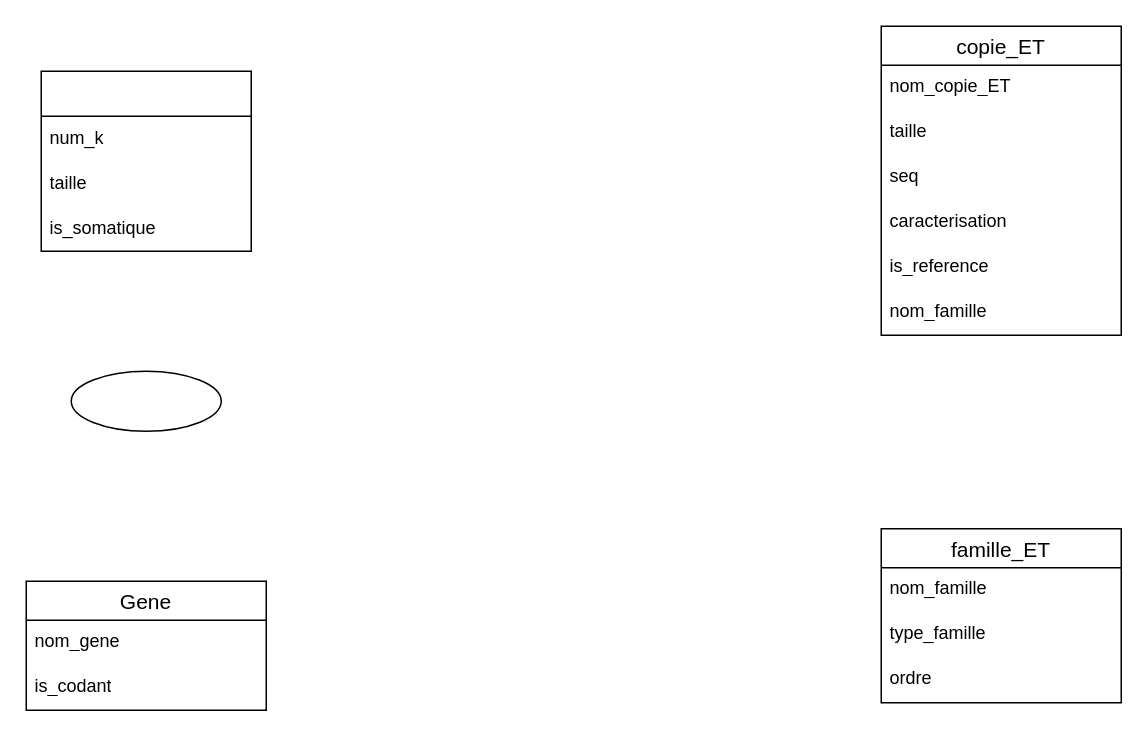
Image size: 1148x741. Some labels were removed from this diagram. The shapes that lost their labels are listed below. From the top down, each one's box as (x1, y1, x2, y2) in pixels, then its label:
(40, 70, 251, 251): Chromosome
(70, 370, 221, 431): Attribute
